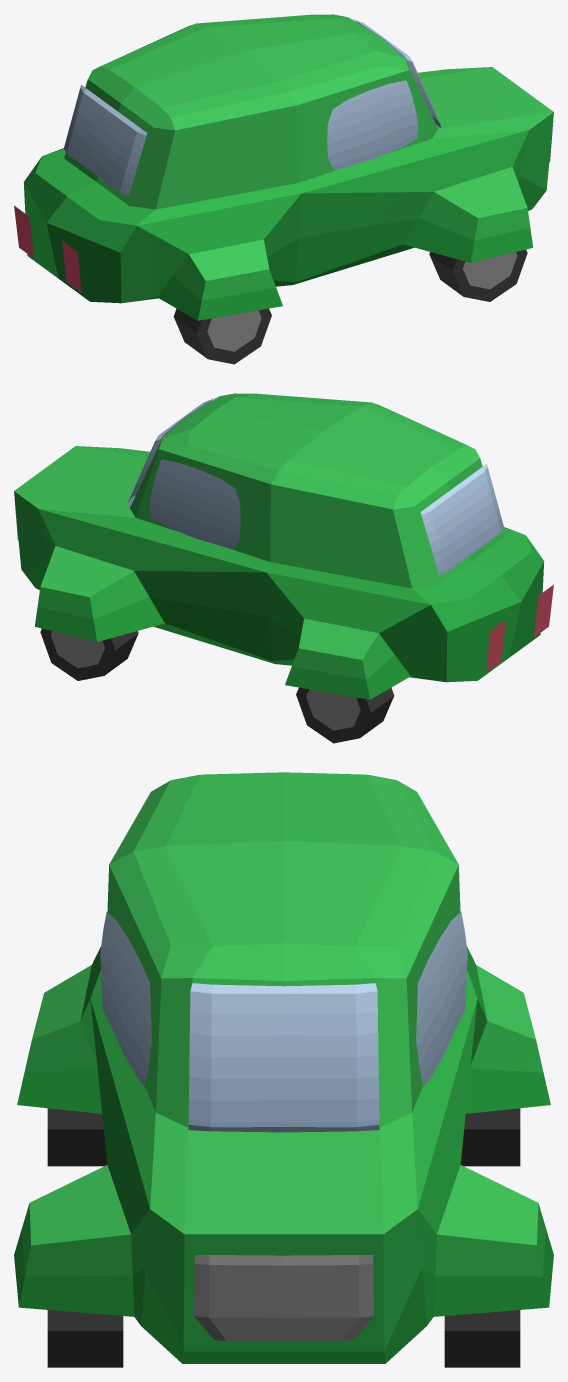
Rendered from voiture.fbx.
The picture shows the model from 3 angles, top to bottom: view 1: azimuth 30°, elevation 25°; view 2: azimuth 150°, elevation 25°; view 3: azimuth 270°, elevation 25°; orthographic projection. The views are drawn at different scales.
Visible parts, largest first — view 1: Cube; view 2: Cube; view 3: Cube.
Boxes of the visible parts, bbox=[...] form: Cube: bbox=[14, 14, 553, 364]; Cube: bbox=[14, 393, 553, 743]; Cube: bbox=[14, 772, 553, 1367].
Bounding box in the file's own units: 140 × 84.09 × 66.58.
